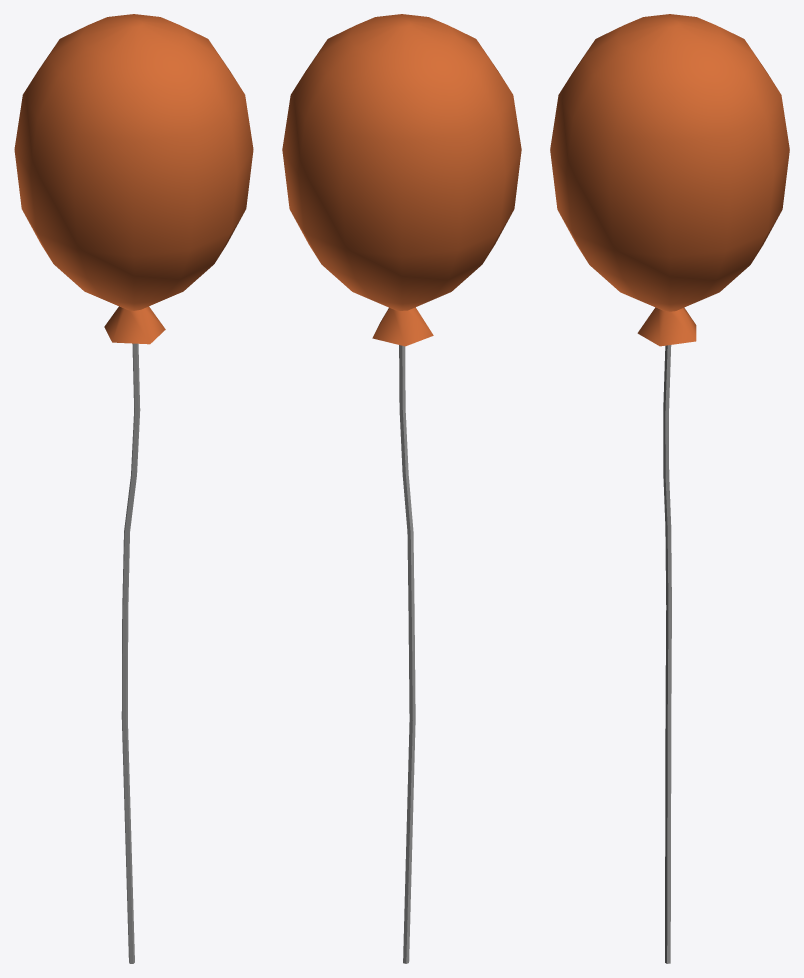
Rendered from Balloon_Single_01.fbx.
3 renders of one model, left to right at view 1: azimuth 30°, elevation 25°; view 2: azimuth 150°, elevation 25°; view 3: azimuth 270°, elevation 25°, orthographic.
Parts seen in each view (by area): view 1: Balloon_Single_01; view 2: Balloon_Single_01; view 3: Balloon_Single_01.
Boxes of the visible parts, x1,y1,x2,y2 form: Balloon_Single_01: (14,14,253,963); Balloon_Single_01: (282,14,521,963); Balloon_Single_01: (550,14,789,963).
Bounding box in the file's own units: 0.2464 × 1.07 × 0.2464.
